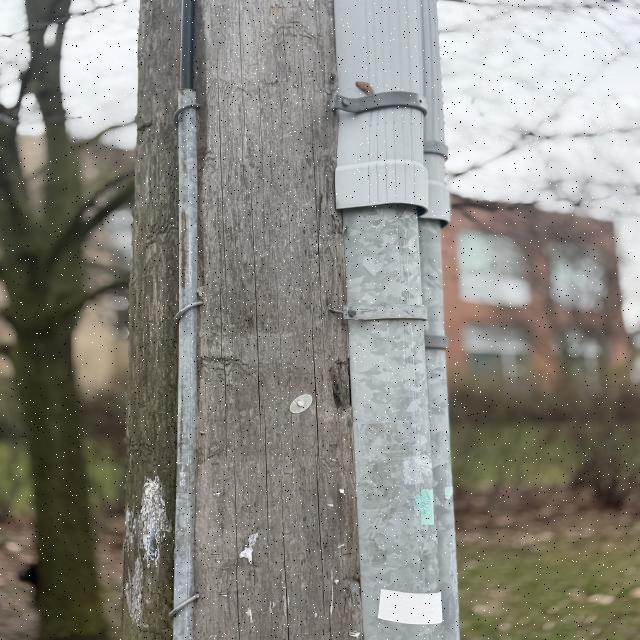Electrical Pole: (114, 2, 460, 638)
